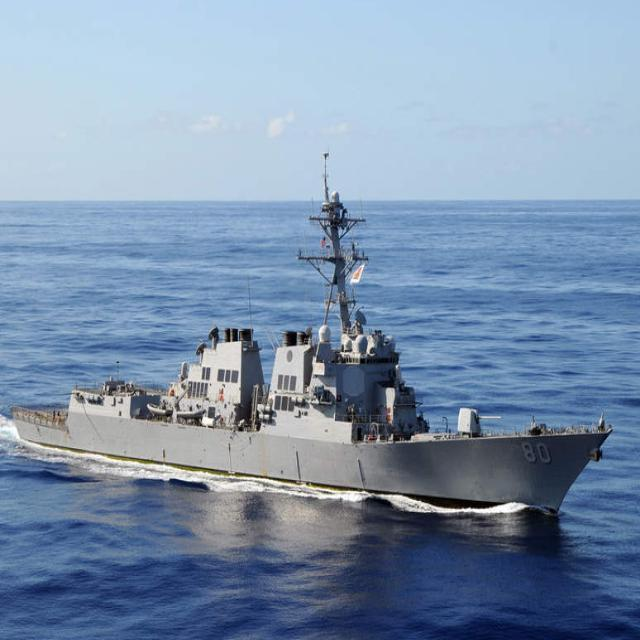navalvessels: (12, 140, 618, 529)
